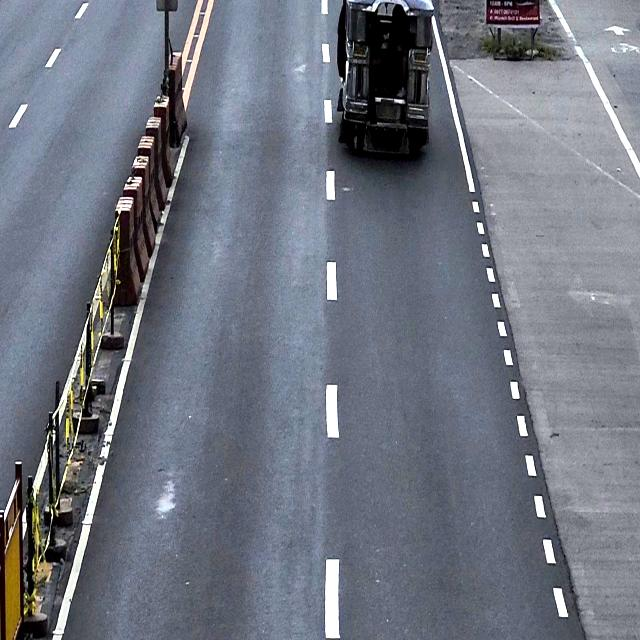Jeep: (336, 0, 434, 157)
License-Plate: (376, 102, 399, 120)
